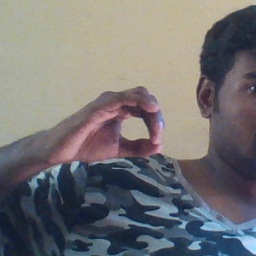O: (51, 83, 173, 166)
